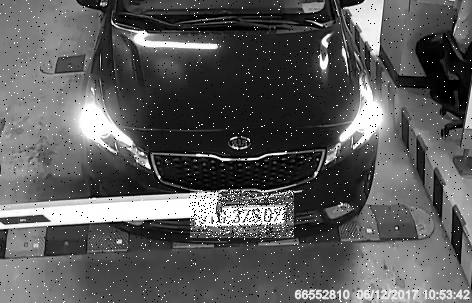License-plate: (191, 191, 295, 239)
